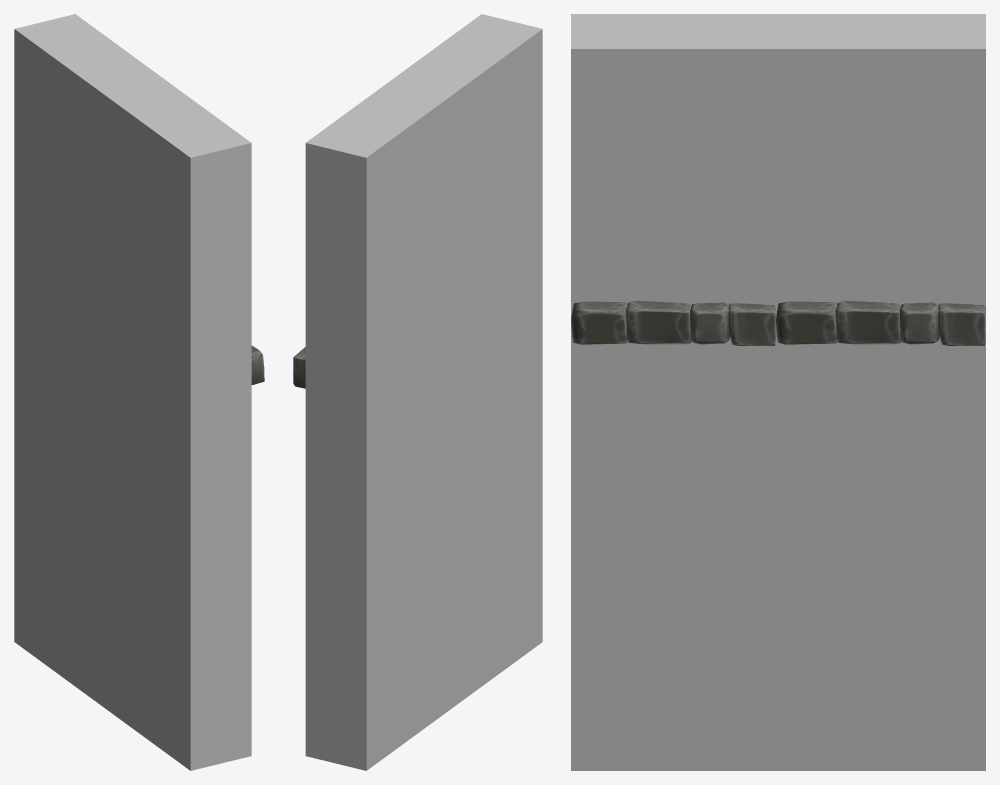
Rendered from Wall_A.fbx.
The picture shows the model from 3 angles, left to right: view 1: azimuth 30°, elevation 25°; view 2: azimuth 150°, elevation 25°; view 3: azimuth 270°, elevation 25°; orthographic projection. The views are drawn at different scales.
Visible parts, largest first — view 1: Wall_A; view 2: Wall_A; view 3: Wall_A.
Part boxes in pixels (left/top/right/bottom): Wall_A: left=14, top=14, right=264, bottom=770; Wall_A: left=293, top=14, right=542, bottom=770; Wall_A: left=571, top=14, right=985, bottom=770.
Size of the model in its own units: 545 by 4183 by 2178.
